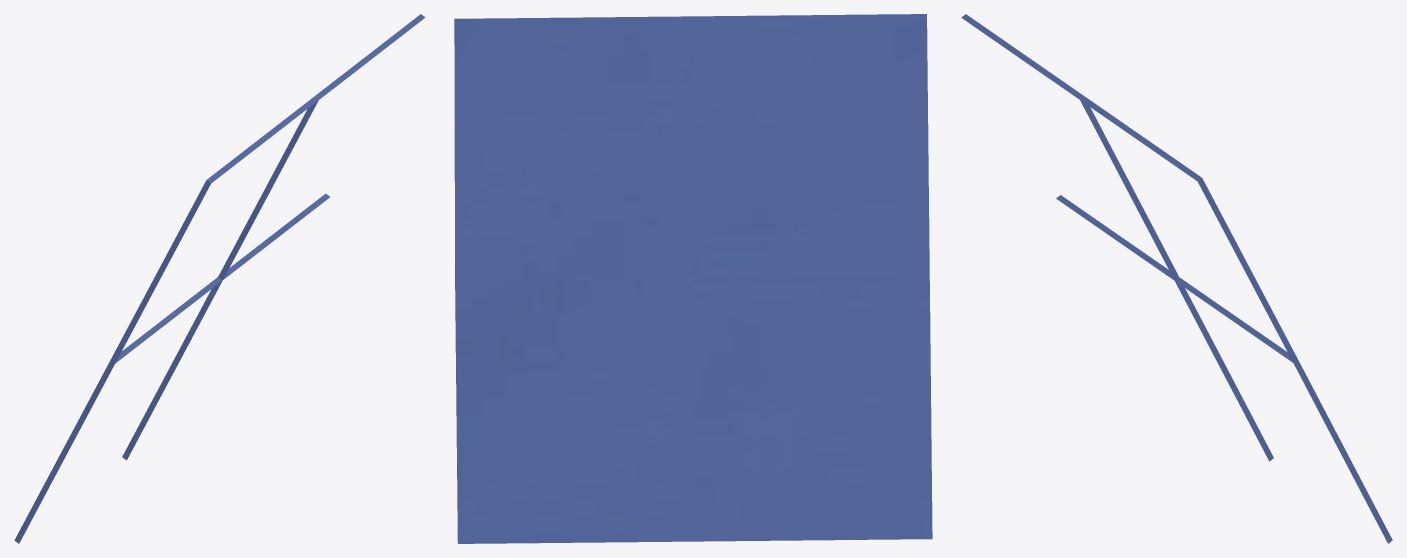
The picture shows the model from 3 angles, left to right: view 1: azimuth 30°, elevation 25°; view 2: azimuth 150°, elevation 25°; view 3: azimuth 270°, elevation 25°; orthographic projection. The views are drawn at different scales.
Size of the model in its own units: 19666 by 17712 by 16776.
1 material, 1 textured.
